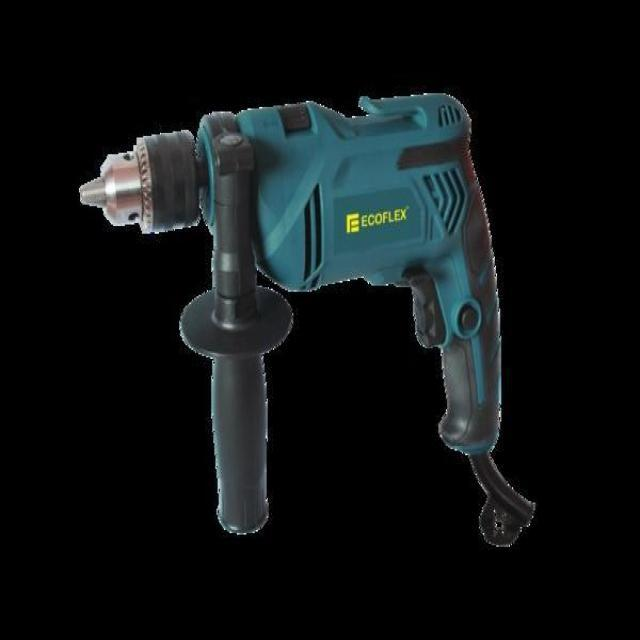drill: (78, 94, 536, 548)
